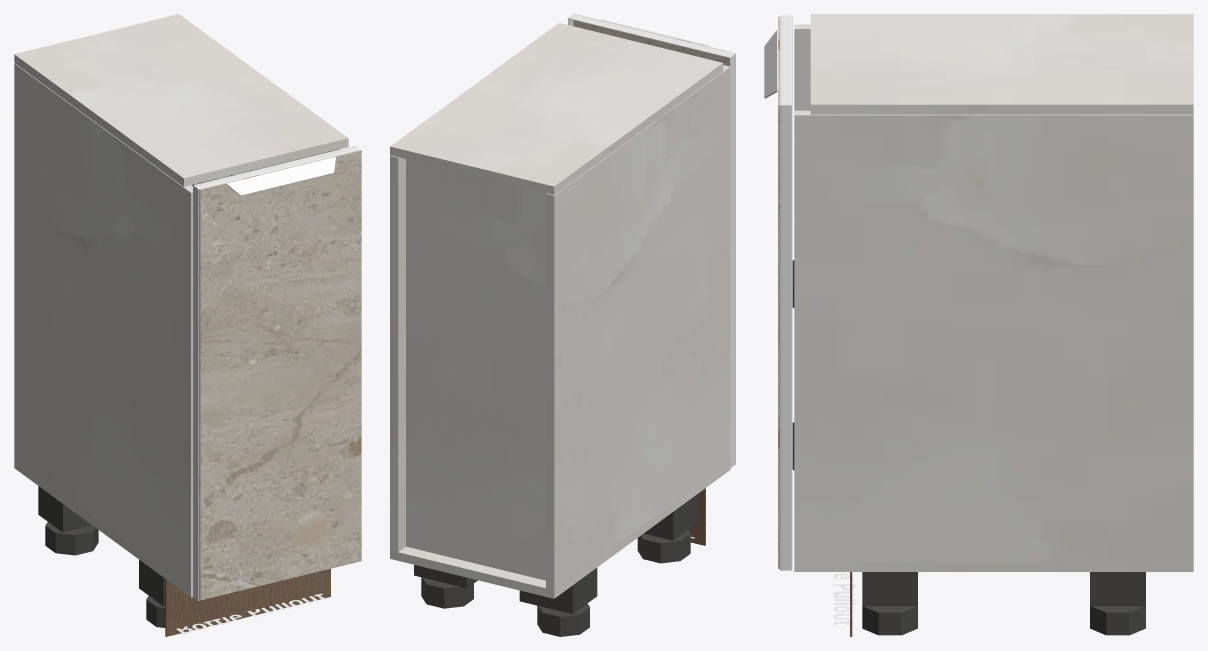
Rendered from BCBP1PS_RH_EH (H720xW300xD560).glb.
3 views of the same model, side by side, from view 1: azimuth 30°, elevation 25°; view 2: azimuth 150°, elevation 25°; view 3: azimuth 270°, elevation 25° (orthographic). The views are drawn at different scales.
Size of what is drawn, in the model's own units: 0.3 by 0.82 by 0.6.
Materials: 9 (3 with a texture image).
